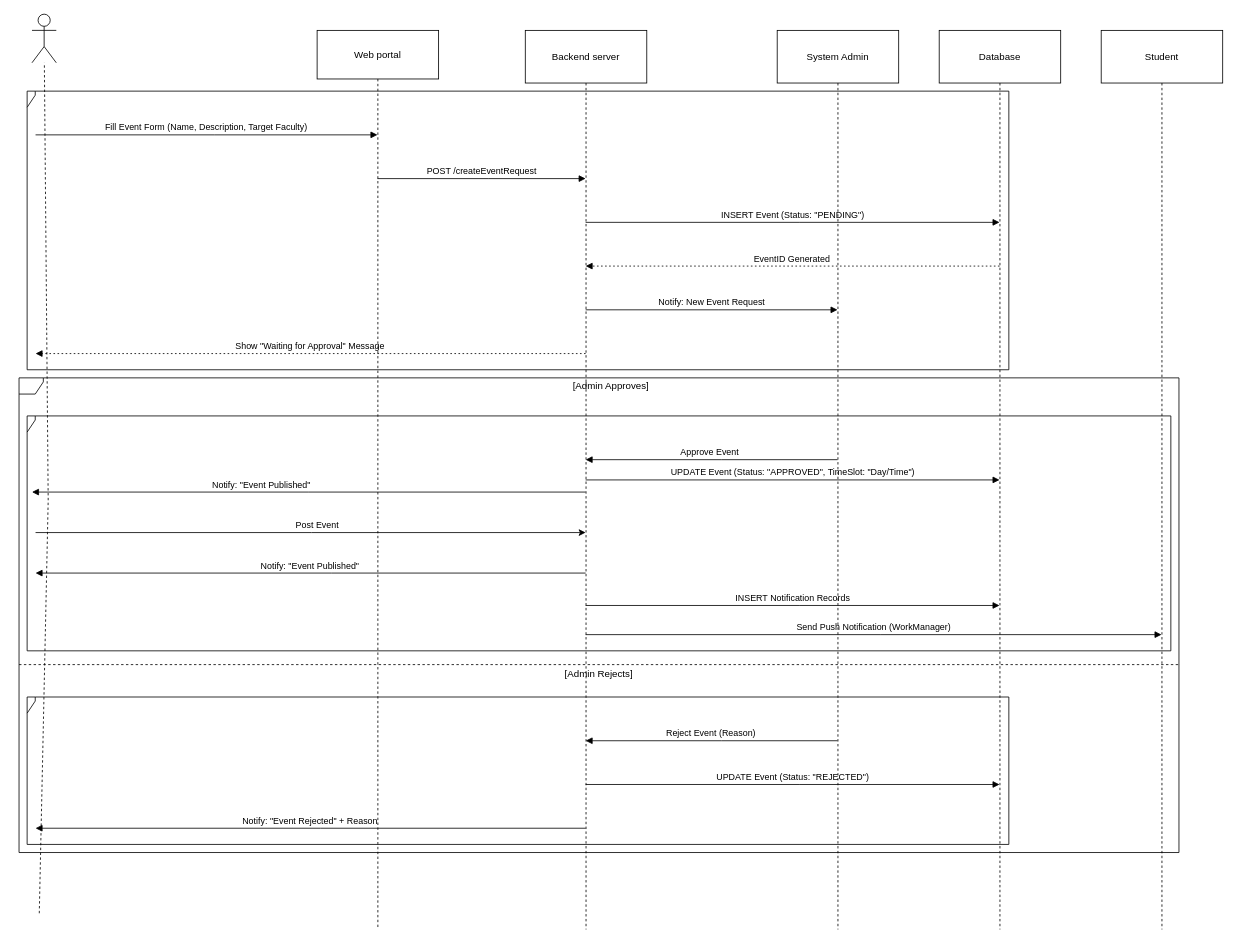
The diagram is 1237 pixels wide and 944 high, and some of its shapes have lost their labels. Here are the shapes that lost their labels. From the top down, the centre of each, then its label:
point 43,38: Club manager
point 598,615: alt
